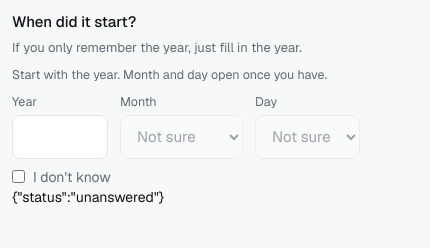
Test: partial dates by keyboard › takes a year alone and reads it back as a year
Type "2026" into the number field labelled "Year" at coordinates (60, 137), box x1=12 y1=115 x2=108 y2=159
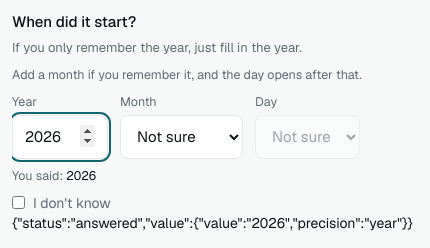
Check: the text "You said: 2026" is shown, box x1=12 y1=167 x2=96 y2=184
